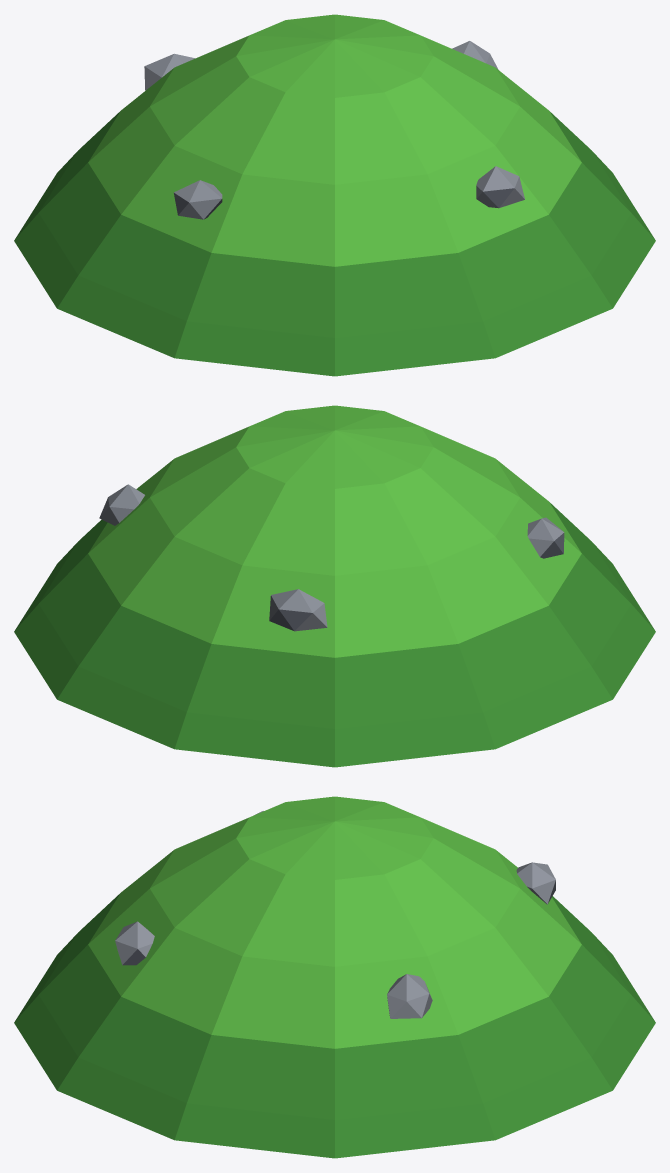
The model's file is Hill.fbx.
3 renders of one model, top to bottom at view 1: azimuth 30°, elevation 25°; view 2: azimuth 150°, elevation 25°; view 3: azimuth 270°, elevation 25°, orthographic.
Parts seen in each view (by area): view 1: Hill; view 2: Hill; view 3: Hill.
Part boxes in pixels (x1=…): Hill: x1=14, y1=14, x2=655, y2=376; Hill: x1=14, y1=405, x2=655, y2=767; Hill: x1=14, y1=796, x2=655, y2=1158.
Bounding box in the file's own units: 52 × 18 × 52.
Materials: 1 (1 with a texture image).
